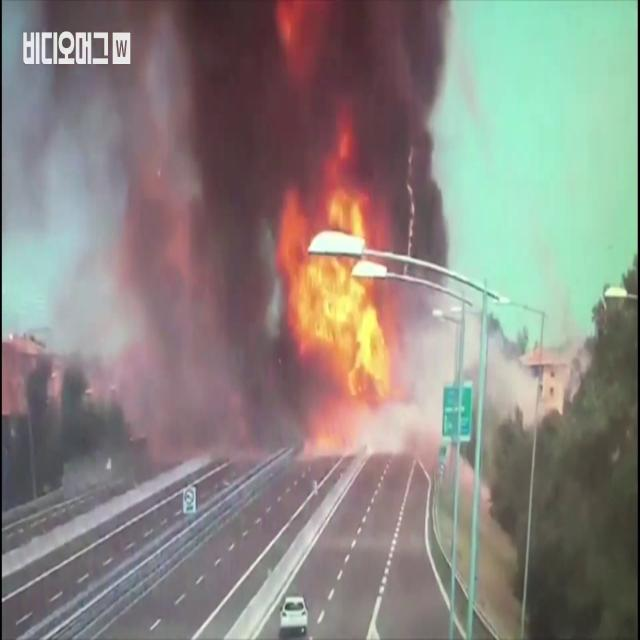explosion: (32, 27, 476, 505)
